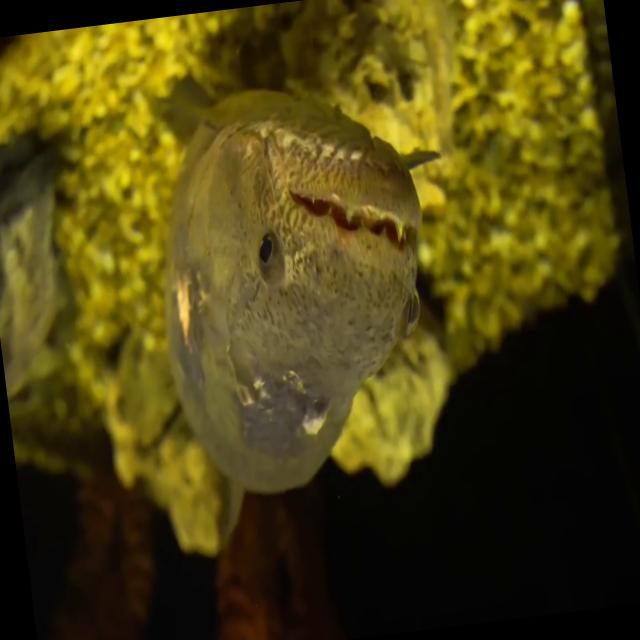fish: (142, 74, 450, 497)
